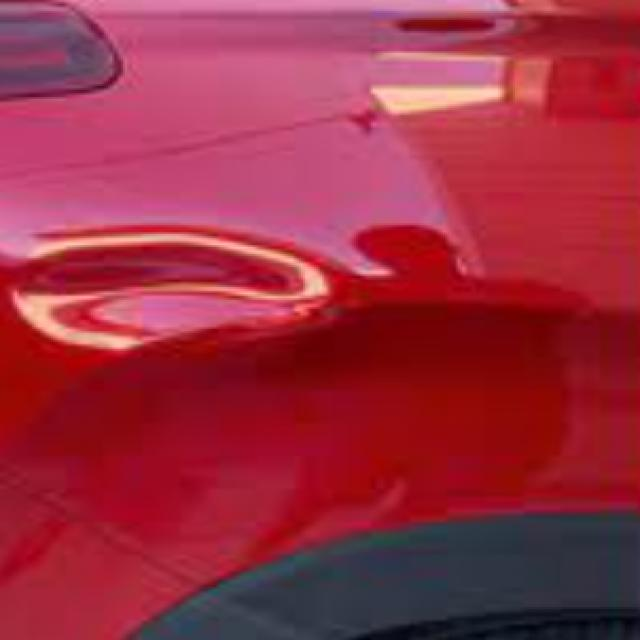dents: (6, 209, 324, 345)
